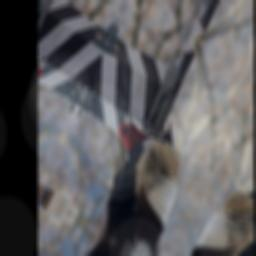Woodpecker: (73, 96, 205, 256)
